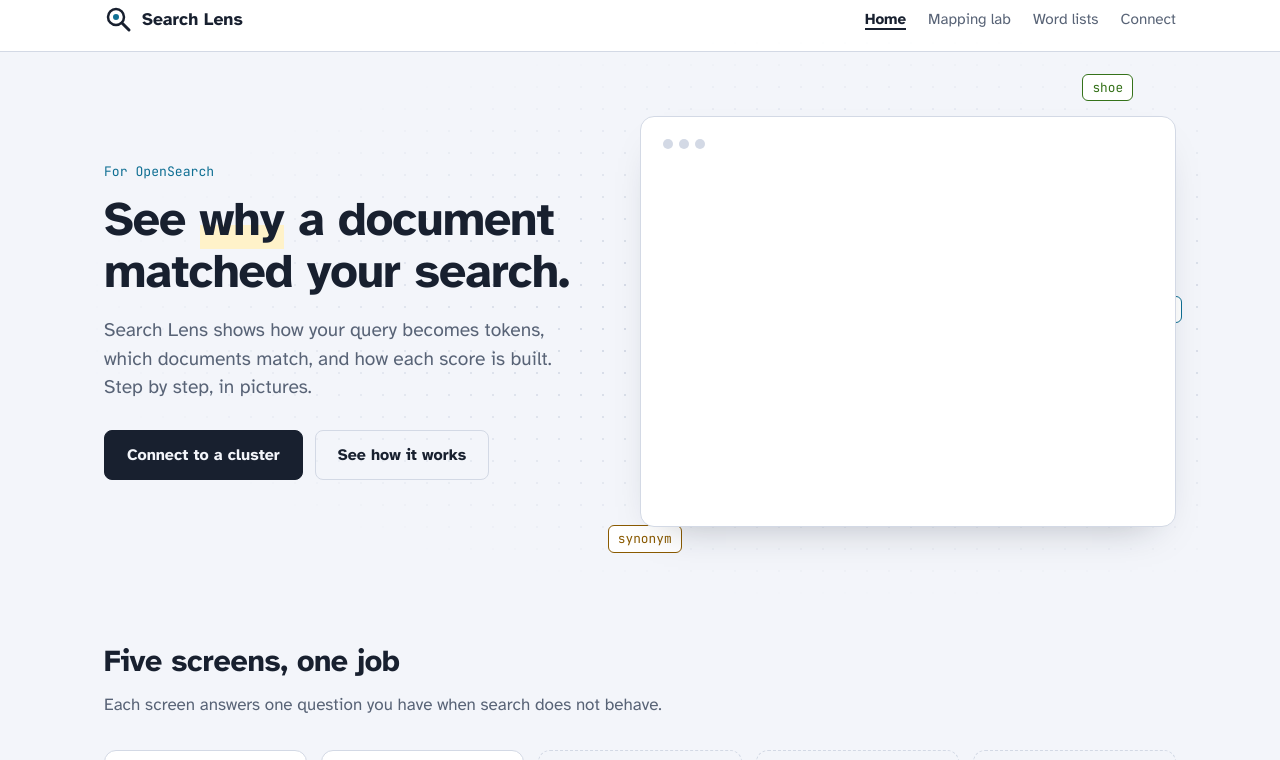
it: Mapping lab: opening (R5.1, R5.5, R1.9) › is reached from the header
Click the link "Mapping lab": {"x": 969, "y": 19} x1=928 y1=8 x2=1011 y2=30
(page scrolled)
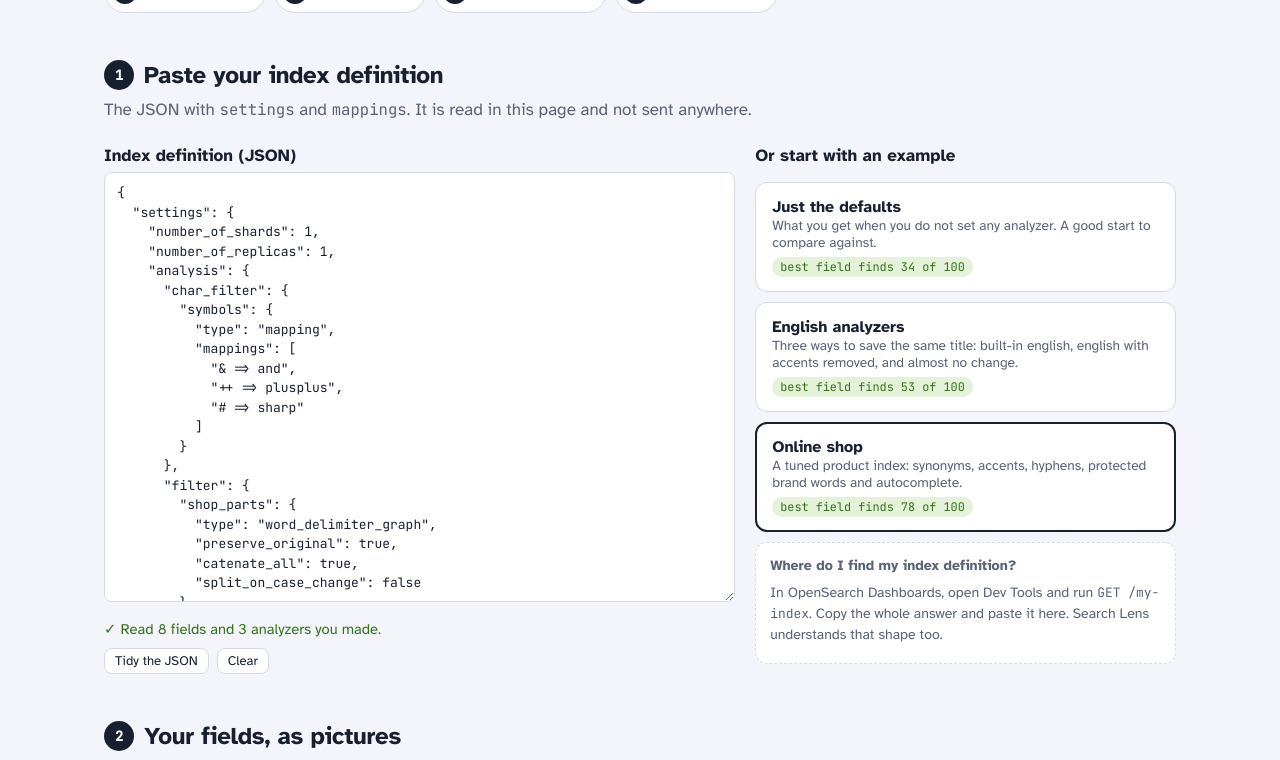
Expected: the text box labelled "Index definition (JSON)" is shown, x1=104 y1=172 x2=735 y2=602
